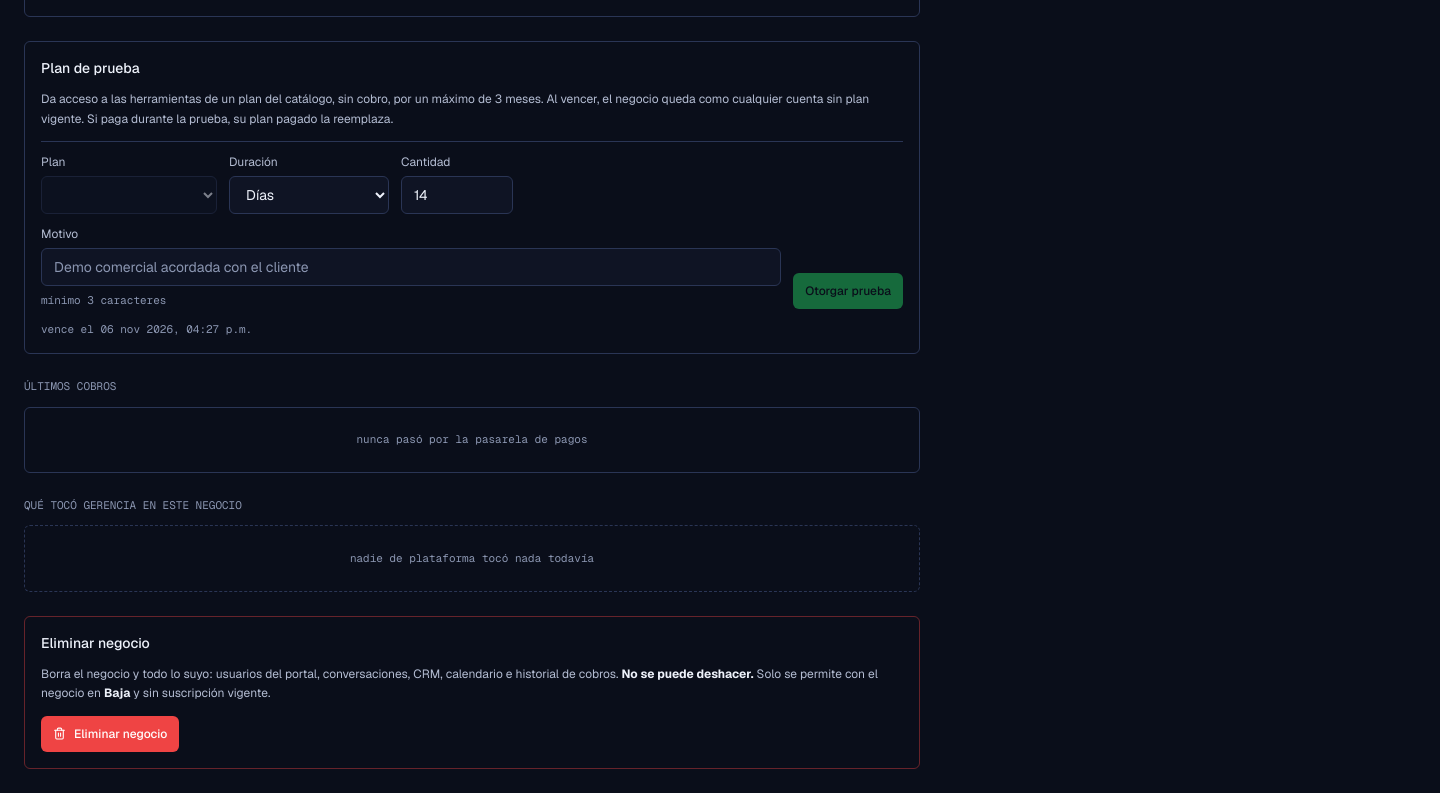
Scenario: si el backend lo bloquea (409), muestra su mensaje y no da por eliminado
(page scrolled)
Click the button "Eliminar negocio" at [110, 734], box [41,716,179,752]
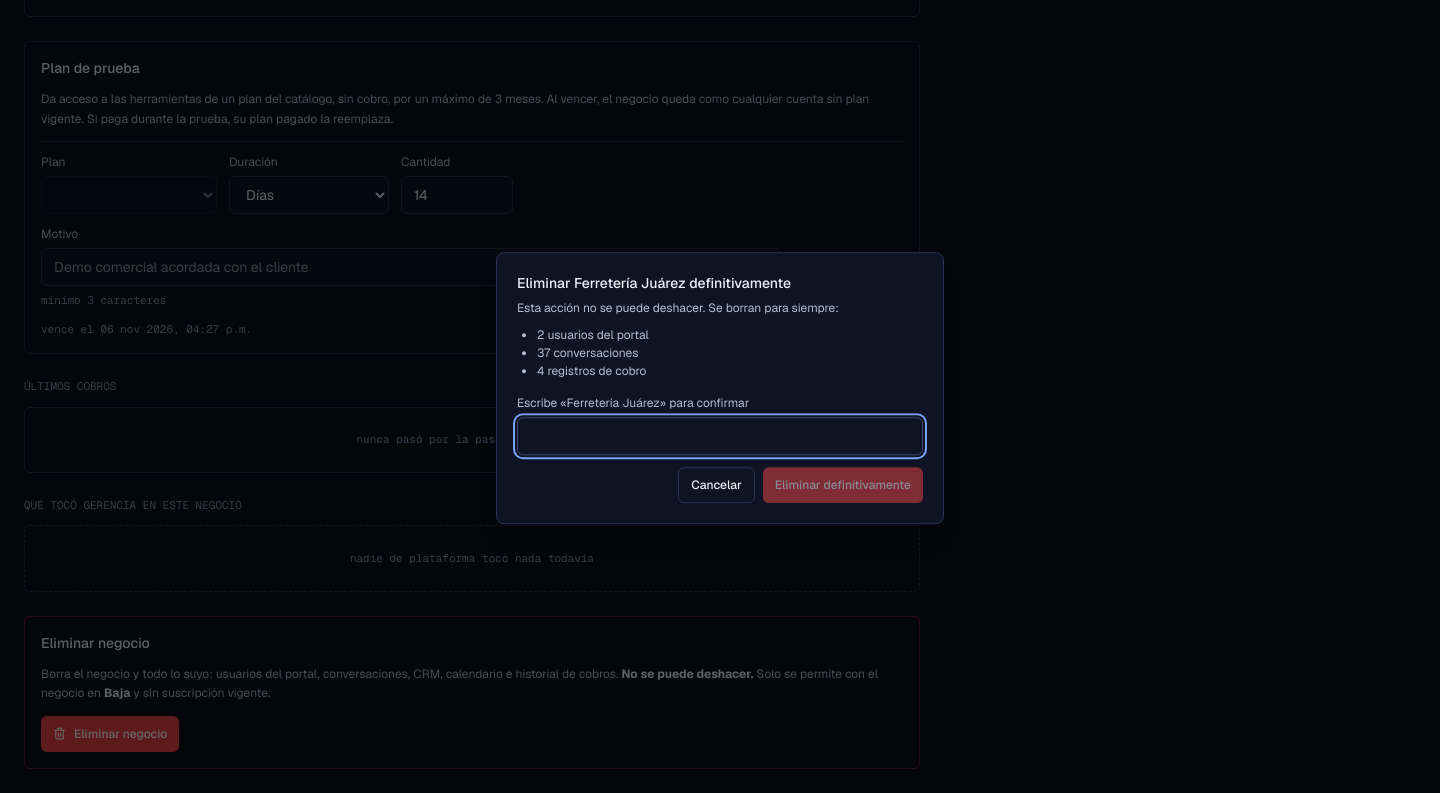
Type "Ferretería Juárez" into the field labelled "Escribe «Ferretería Juárez» para confirmar" at [720, 436], box [517,417,923,455]
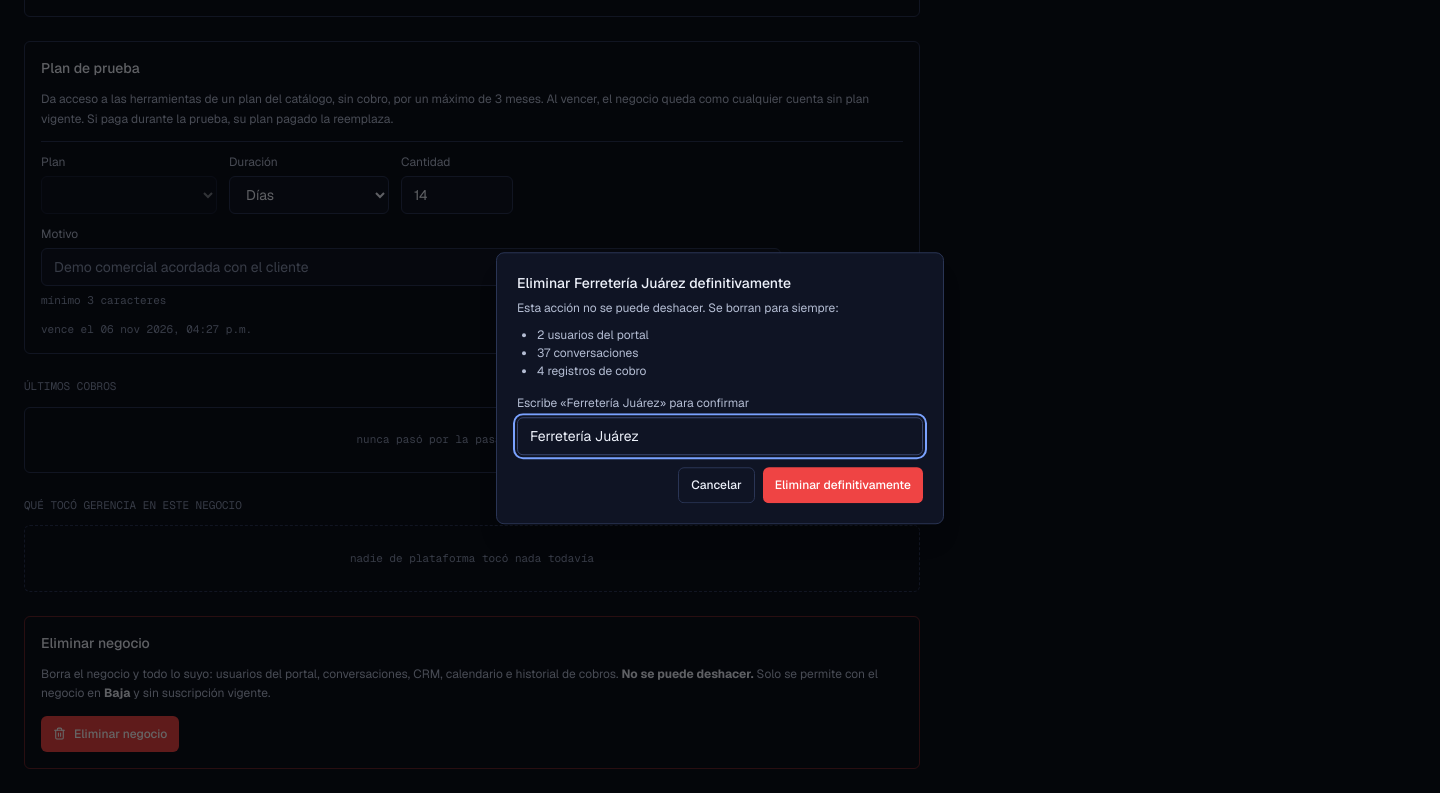
Click the button "Eliminar definitivamente" at [843, 485], box [763,467,923,503]
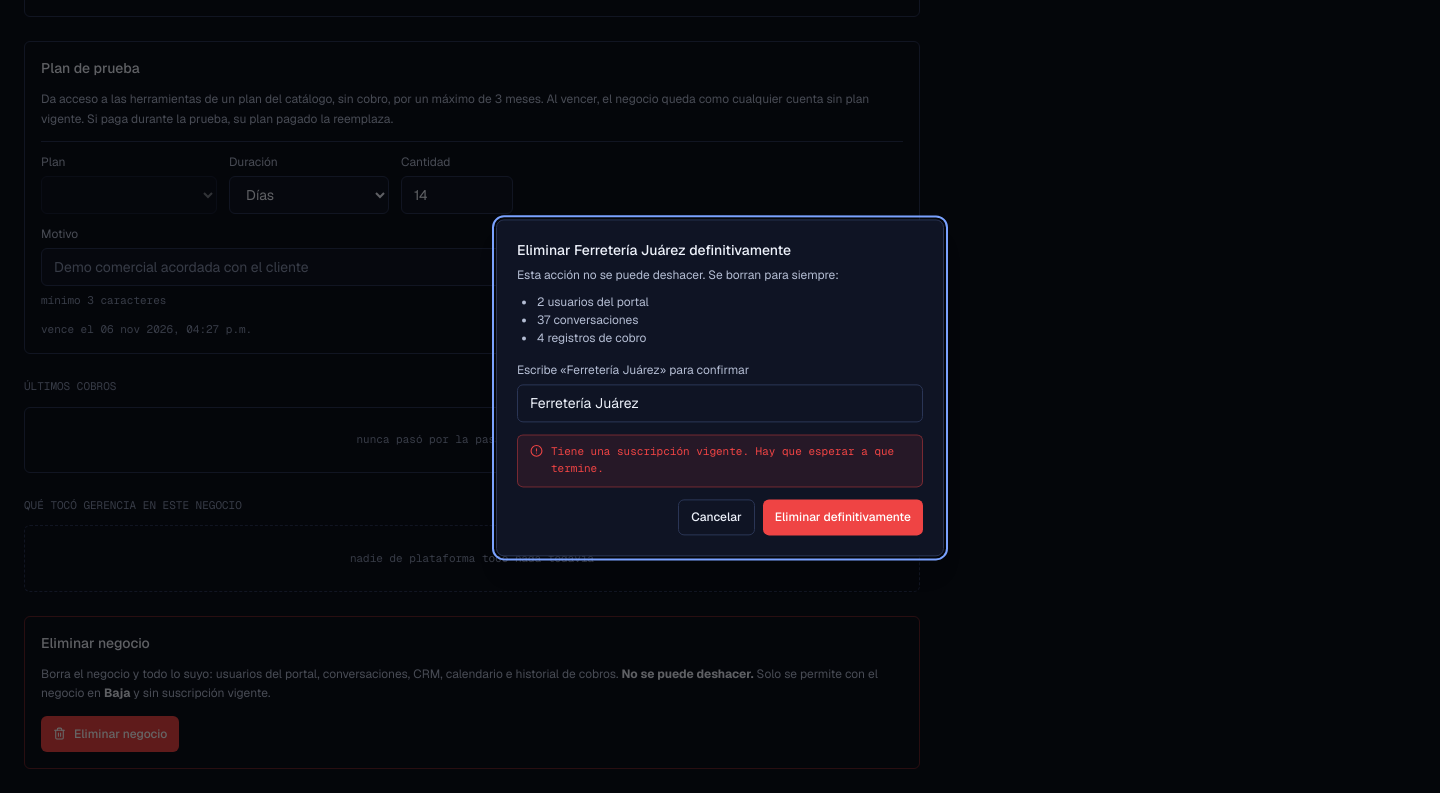
Now the text "Tiene una suscripción vigente" is shown, box [551,444,894,476]
